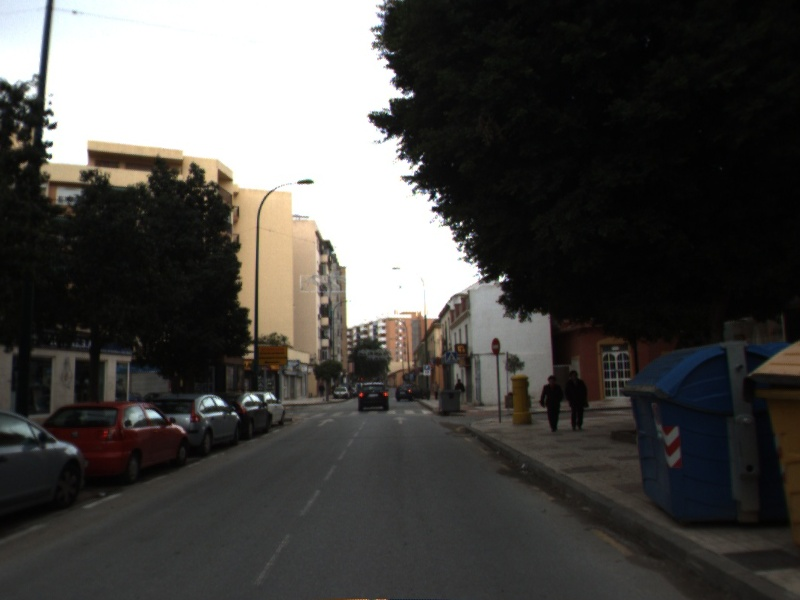STRAIGHT: (315, 417, 337, 428), (391, 415, 410, 426)
